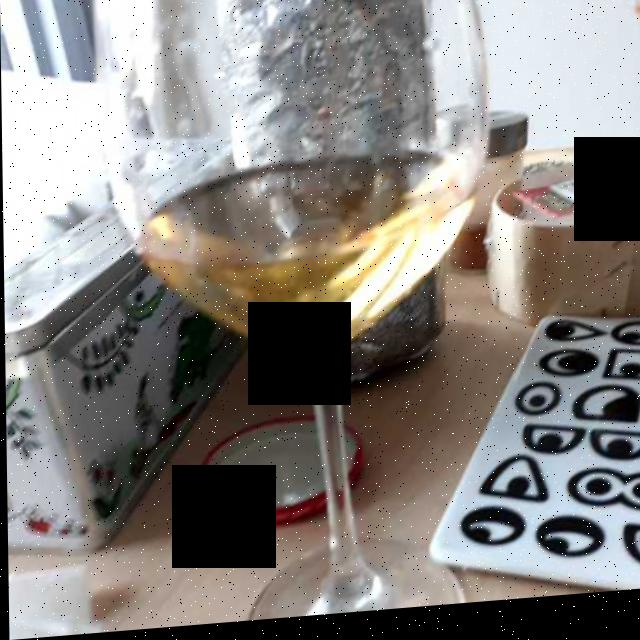wine-white: (139, 144, 465, 359)
